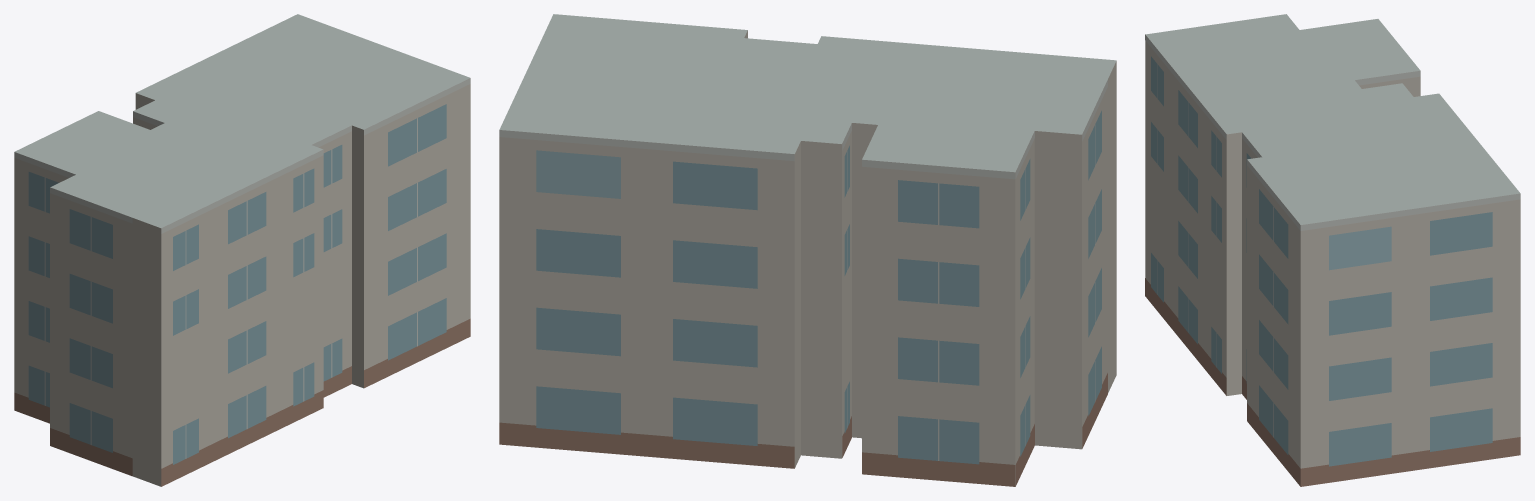
File: survey-upis-33015677.glb
3 renders of one model, left to right at view 1: azimuth 30°, elevation 25°; view 2: azimuth 150°, elevation 25°; view 3: azimuth 270°, elevation 25°, orthographic. The views are drawn at different scales.
Parts seen in each view (by area): view 1: survey-upis-33015677.tmp; view 2: survey-upis-33015677.tmp; view 3: survey-upis-33015677.tmp.
Boxes of the visible parts, left/top/right/bottom form: survey-upis-33015677.tmp: left=14, top=14, right=470, bottom=486; survey-upis-33015677.tmp: left=499, top=14, right=1116, bottom=486; survey-upis-33015677.tmp: left=1145, top=14, right=1520, bottom=486.
Size of the model in its own units: 18.7 by 10.8 by 14.05.
